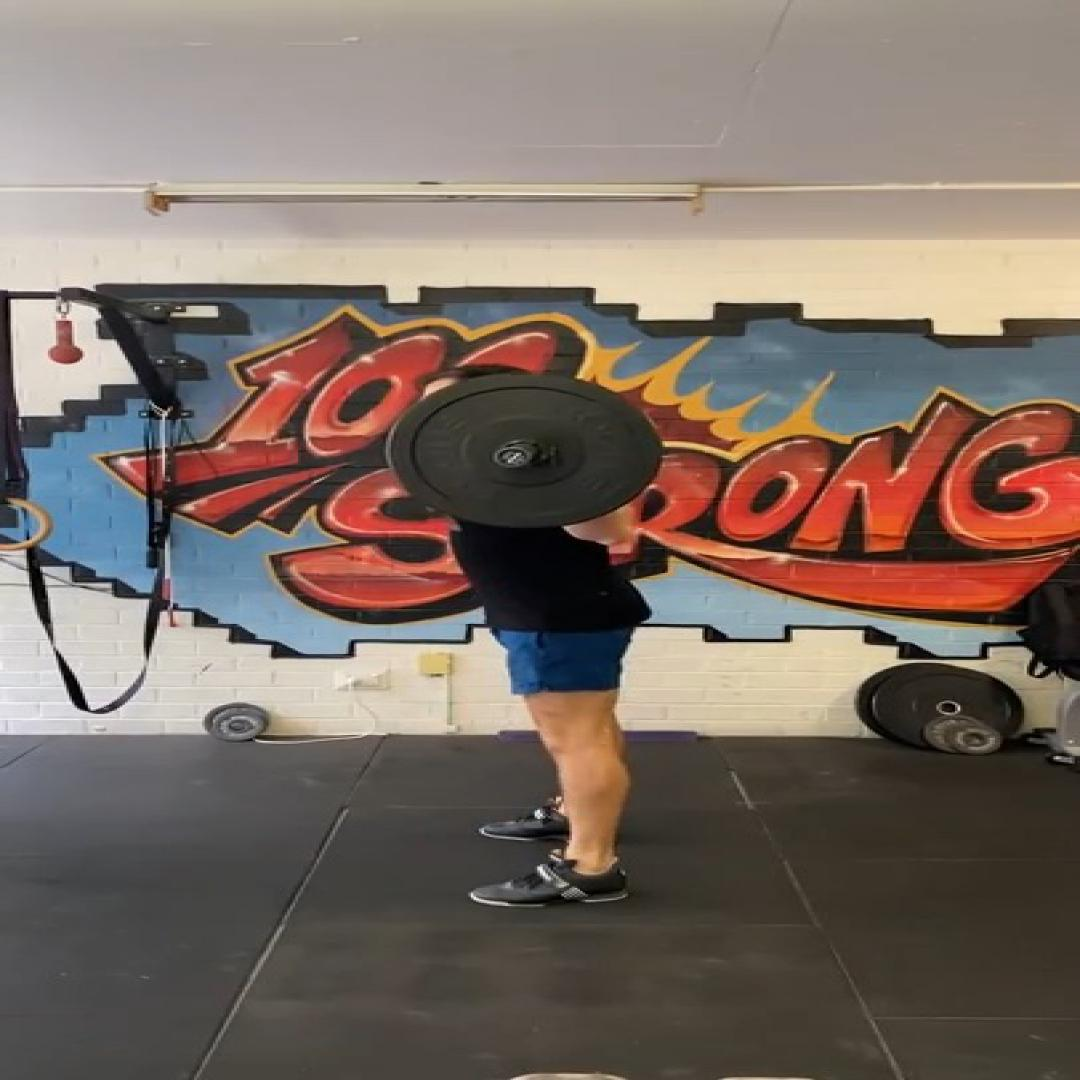Bar: (491, 446, 534, 469)
Barbell: (384, 373, 663, 528)
